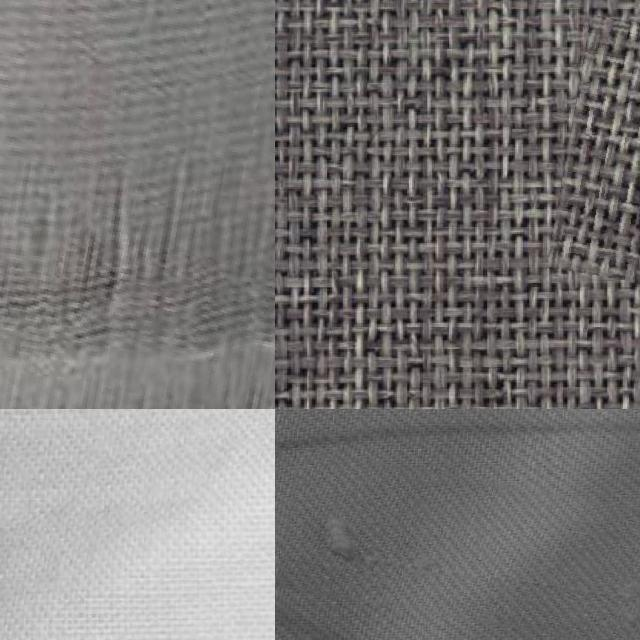Hole: (557, 21, 640, 291)
Thread_other: (279, 463, 640, 635)
